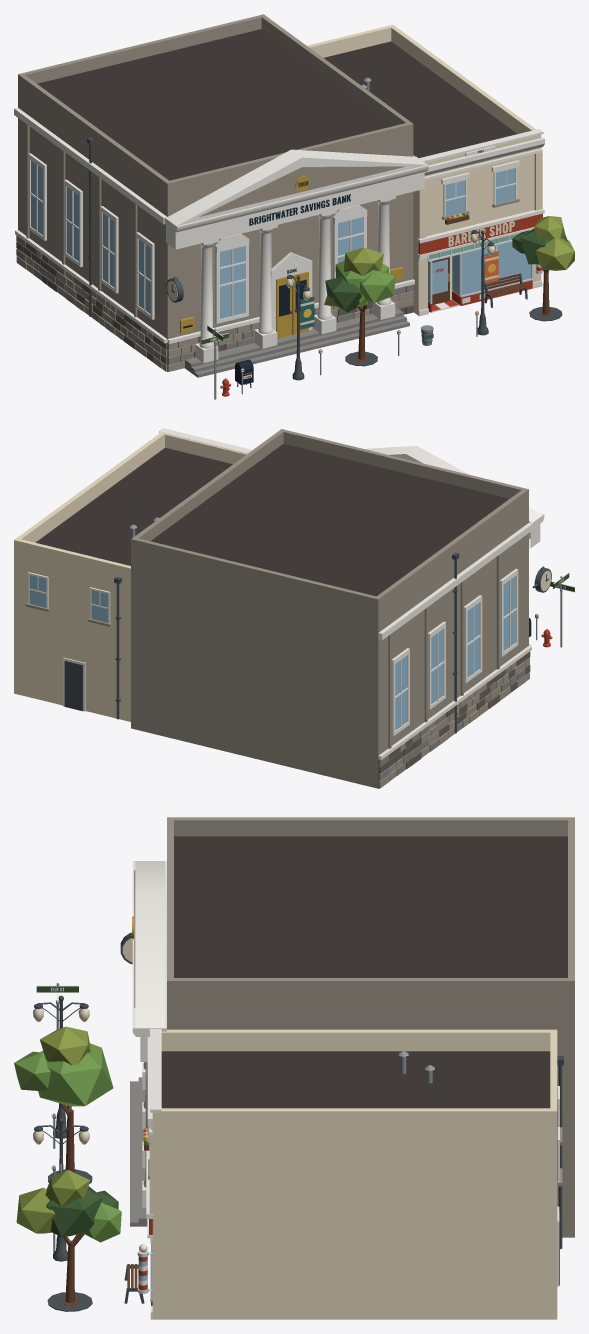
Rendered from Lobby_BlockBank.fbx.
3 views of the same model, one above another, from view 1: azimuth 30°, elevation 25°; view 2: azimuth 150°, elevation 25°; view 3: azimuth 270°, elevation 25° (orthographic). The views are drawn at different scales.
Parts seen in each view (by area): view 1: Decor, DecorGlassSkyblue, DecorGlassSkyblue_, DecorGlassSkyblue__; view 2: Decor, DecorGlassSkyblue; view 3: Decor.
Boxes of the visible parts, x1=… form: Decor: x1=14, y1=14, x2=574, y2=399; DecorGlassSkyblue: x1=31, y1=160, x2=515, y2=318; DecorGlassSkyblue_: x1=428, y1=242, x2=531, y2=301; DecorGlassSkyblue__: x1=432, y1=259, x2=447, y2=294; Decor: x1=14, y1=428, x2=574, y2=788; DecorGlassSkyblue: x1=29, y1=575, x2=515, y2=730; Decor: x1=14, y1=817, x2=574, y2=1319.
Size of the model in its own units: 67.45 by 33.01 by 63.78.
